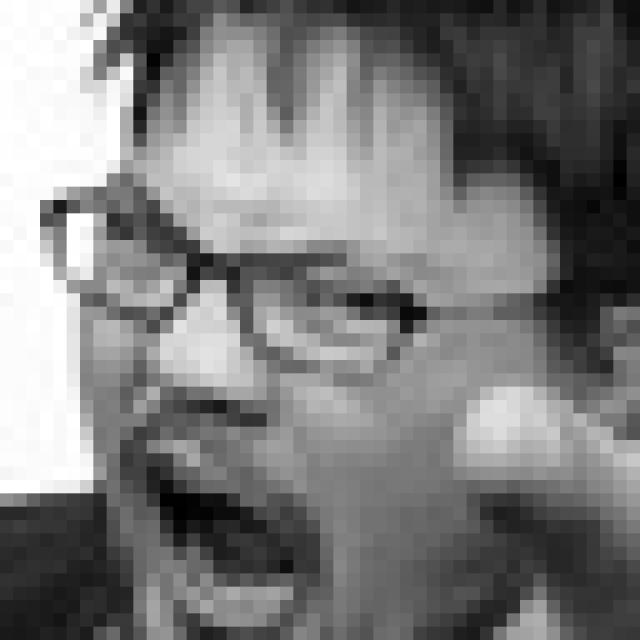angry: (92, 161, 415, 640)
